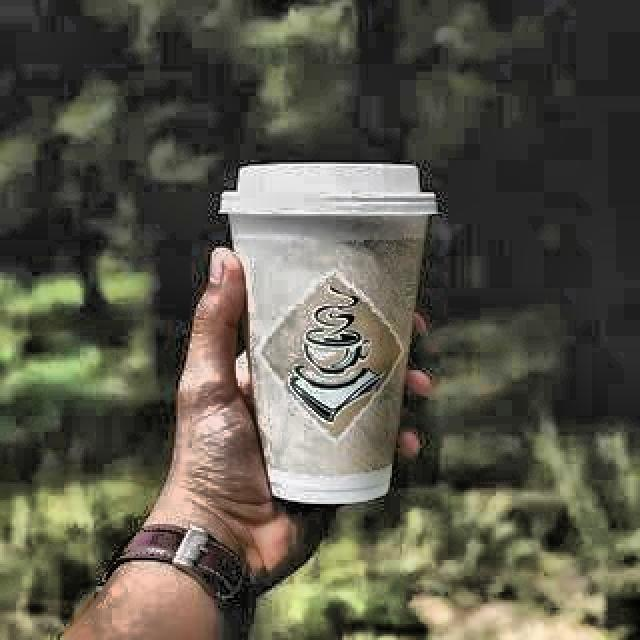Cup: (210, 169, 441, 518)
